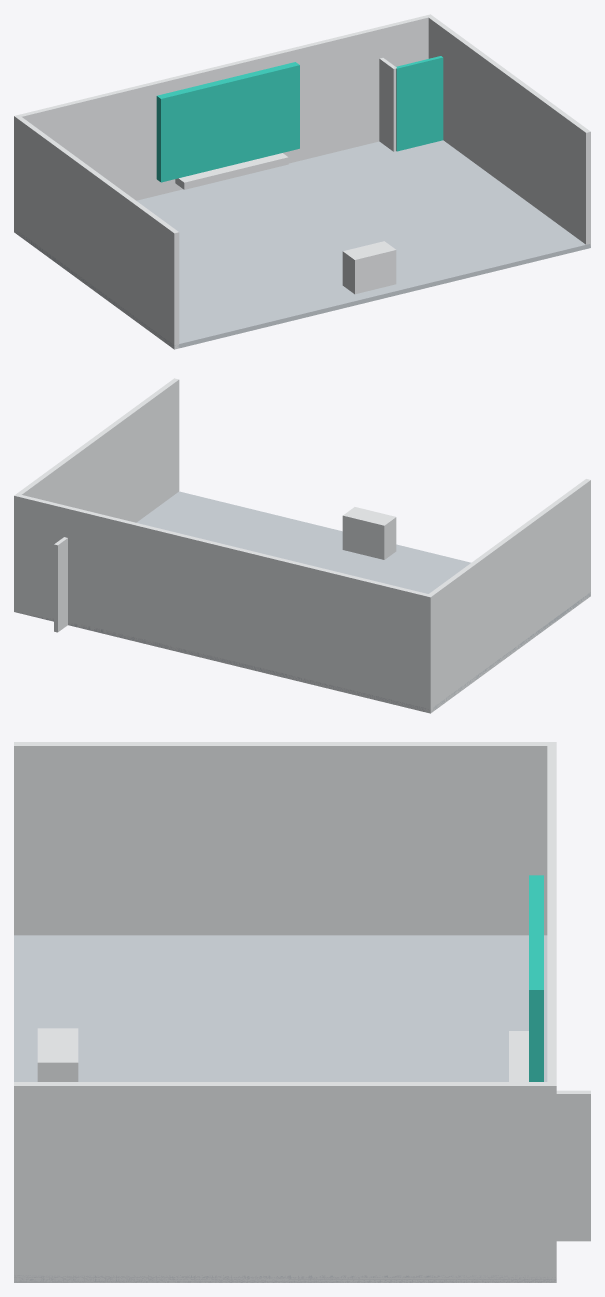
The picture shows the model from 3 angles, top to bottom: view 1: azimuth 30°, elevation 25°; view 2: azimuth 150°, elevation 25°; view 3: azimuth 270°, elevation 25°; orthographic projection. The views are drawn at different scales.
Visible parts, largest first — view 1: Exhibition Booth Concept; view 2: Exhibition Booth Concept; view 3: Exhibition Booth Concept.
Boxes of the visible parts, box(x1,y1,x2,y2) form: Exhibition Booth Concept: box(14, 14, 590, 349); Exhibition Booth Concept: box(14, 378, 590, 713); Exhibition Booth Concept: box(14, 742, 590, 1282).
Bounding box in the file's own units: 12 × 3.2 × 8.51.
